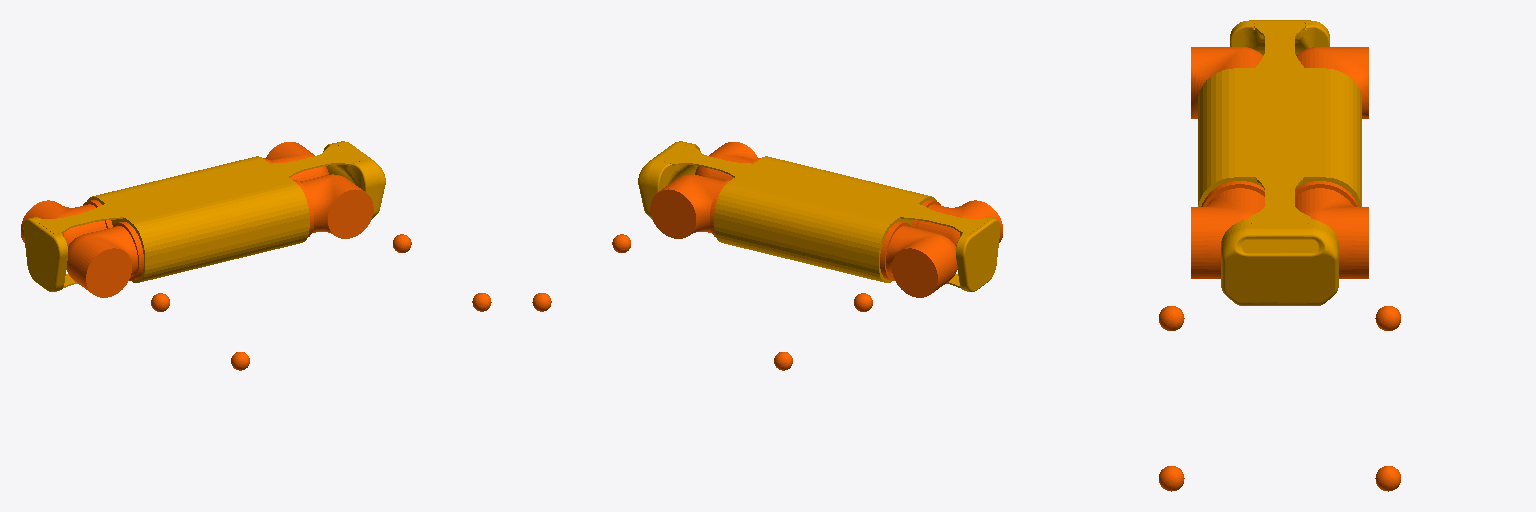
--- Render facts (derived) ---
3 views of the same robot in one strip: view 1: azimuth 30°, elevation 25°; view 2: azimuth 150°, elevation 25°; view 3: azimuth 270°, elevation 25° (orthographic).
Robot: robot — 18 links, 17 joints (12 revolute, 5 fixed); root link base; default pose: joints at zero except 4 at the middle of their limits (RF_KFE = -1.71, LF_KFE = -1.71, RH_KFE = -1.71, LH_KFE = -1.71).
Visible links, largest first — view 1: base, RH_hip, RF_hip, LH_hip, LF_hip; view 2: base, LH_hip, LF_hip, RH_hip, RF_hip; view 3: base, RF_hip, LF_hip, RH_hip, LH_hip.
Boxes of the visible links, x1,y1,x2,y2 form: base: (23, 141, 385, 291); RH_hip: (66, 222, 143, 297); RF_hip: (293, 174, 373, 238); LH_hip: (21, 200, 112, 245); LF_hip: (263, 142, 328, 181); base: (638, 141, 1000, 291); LH_hip: (880, 222, 957, 297); LF_hip: (650, 174, 730, 238); RH_hip: (911, 200, 1002, 245); RF_hip: (695, 142, 760, 181); base: (1198, 20, 1361, 305); RF_hip: (1191, 181, 1264, 278); LF_hip: (1295, 181, 1368, 278); RH_hip: (1191, 47, 1263, 118); LH_hip: (1296, 47, 1368, 118).
Size in the robot's own frame: 0.8157 by 0.3086 by 0.2877 metres.
Meshes: 5 distinct files referenced, 5 mesh visuals loaded (2 Collada DAE); not drawn: 8 (reference not matched to a file when rendering).

The robot description file, URDF, robot "robot":
<?xml version="1.0" ?>
<!-- =================================================================================== -->
<!-- |    This document was autogenerated by xacro from ./robot.xacro                  | -->
<!-- |    EDITING THIS FILE BY HAND IS NOT RECOMMENDED                                 | -->
<!-- =================================================================================== -->
<robot name="robot">
  <material name="black">
    <color rgba="0.0 0.0 0.0 1.0"/>
  </material>
  <material name="blue">
    <color rgba="0.0 0.0 0.8 1.0"/>
  </material>
  <material name="green">
    <color rgba="0.0 0.8 0.0 1.0"/>
  </material>
  <material name="grey">
    <color rgba="0.2 0.2 0.2 1.0"/>
  </material>
  <material name="silver">
    <color rgba="0.9137254901960784 0.9137254901960784 0.8470588235294118 1.0"/>
  </material>
  <material name="orange">
    <color rgba="1.0 0.4235294117647059 0.0392156862745098 1.0"/>
  </material>
  <material name="brown">
    <color rgba="0.8705882352941177 0.8117647058823529 0.7647058823529411 1.0"/>
  </material>
  <material name="red">
    <color rgba="0.8 0.0 0.0 1.0"/>
  </material>
  <material name="white">
    <color rgba="1.0 1.0 1.0 1.0"/>
  </material>
  <!-- ros_control plugin -->
  <gazebo>
    <plugin filename="liblegged_hw_sim.so" name="gazebo_ros_control">
      <robotNamespace>/</robotNamespace>
      <robotParam>legged_robot_description</robotParam>
      <robotSimType>legged_gazebo/LeggedHWSim</robotSimType>
    </plugin>
  </gazebo>
  <gazebo>
    <plugin filename="libgazebo_ros_p3d.so" name="p3d_base_controller">
      <alwaysOn>true</alwaysOn>
      <updateRate>1000.0</updateRate>
      <bodyName>base</bodyName>
      <topicName>ground_truth/state</topicName>
      <gaussianNoise>0</gaussianNoise>
      <frameName>world</frameName>
      <xyzOffsets>0 0 0</xyzOffsets>
      <rpyOffsets>0 0 0</rpyOffsets>
    </plugin>
  </gazebo>
  <gazebo reference="base_link">
    <maxVel>100.</maxVel>
    <kp>10000.</kp>
    <kd>0.</kd>
  </gazebo>
  <gazebo reference="stick_link">
    <mu1>0.2</mu1>
    <mu2>0.2</mu2>
    <material>Gazebo/White</material>
  </gazebo>
  <!-- LF leg -->
  <gazebo reference="LF_hip">
    <mu1>0.2</mu1>
    <mu2>0.2</mu2>
    <material>Gazebo/DarkGrey</material>
  </gazebo>
  <gazebo reference="LF_thigh">
    <mu1>0.2</mu1>
    <mu2>0.2</mu2>
    <self_collide>0</self_collide>
    <material>Gazebo/DarkGrey</material>
    <kp value="1000000.0"/>
    <kd value="1.0"/>
  </gazebo>
  <gazebo reference="LF_calf">
    <mu1>0.2</mu1>
    <mu2>0.2</mu2>
    <self_collide>1</self_collide>
  </gazebo>
  <gazebo reference="LF_FOOT">
    <mu1>0.6</mu1>
    <mu2>0.6</mu2>
    <self_collide>1</self_collide>
    <material>Gazebo/DarkGrey</material>
    <kp value="1000000.0"/>
    <kd value="1.0"/>
  </gazebo>
  <!-- RF leg -->
  <gazebo reference="RF_hip">
    <mu1>0.2</mu1>
    <mu2>0.2</mu2>
    <material>Gazebo/DarkGrey</material>
  </gazebo>
  <gazebo reference="RF_thigh">
    <mu1>0.2</mu1>
    <mu2>0.2</mu2>
    <self_collide>0</self_collide>
    <material>Gazebo/DarkGrey</material>
    <kp value="1000000.0"/>
    <kd value="1.0"/>
  </gazebo>
  <gazebo reference="RF_calf">
    <mu1>0.2</mu1>
    <mu2>0.2</mu2>
    <self_collide>1</self_collide>
  </gazebo>
  <gazebo reference="RF_FOOT">
    <mu1>0.6</mu1>
    <mu2>0.6</mu2>
    <self_collide>1</self_collide>
    <material>Gazebo/DarkGrey</material>
    <kp value="1000000.0"/>
    <kd value="1.0"/>
  </gazebo>
  <!-- LH leg -->
  <gazebo reference="LH_hip">
    <mu1>0.2</mu1>
    <mu2>0.2</mu2>
    <material>Gazebo/DarkGrey</material>
  </gazebo>
  <gazebo reference="LH_thigh">
    <mu1>0.2</mu1>
    <mu2>0.2</mu2>
    <self_collide>0</self_collide>
    <material>Gazebo/DarkGrey</material>
    <kp value="1000000.0"/>
    <kd value="1.0"/>
  </gazebo>
  <gazebo reference="LH_calf">
    <mu1>0.2</mu1>
    <mu2>0.2</mu2>
    <self_collide>1</self_collide>
  </gazebo>
  <gazebo reference="LH_FOOT">
    <mu1>0.6</mu1>
    <mu2>0.6</mu2>
    <self_collide>1</self_collide>
    <material>Gazebo/DarkGrey</material>
    <kp value="1000000.0"/>
    <kd value="1.0"/>
  </gazebo>
  <!-- RH leg -->
  <gazebo reference="RH_hip">
    <mu1>0.2</mu1>
    <mu2>0.2</mu2>
    <material>Gazebo/DarkGrey</material>
  </gazebo>
  <gazebo reference="RH_thigh">
    <mu1>0.2</mu1>
    <mu2>0.2</mu2>
    <self_collide>0</self_collide>
    <material>Gazebo/DarkGrey</material>
    <kp value="1000000.0"/>
    <kd value="1.0"/>
  </gazebo>
  <gazebo reference="RH_calf">
    <mu1>0.2</mu1>
    <mu2>0.2</mu2>
    <self_collide>1</self_collide>
  </gazebo>
  <gazebo reference="RH_FOOT">
    <mu1>0.6</mu1>
    <mu2>0.6</mu2>
    <self_collide>1</self_collide>
    <material>Gazebo/DarkGrey</material>
    <kp value="1000000.0"/>
    <kd value="1.0"/>
  </gazebo>
  <link name="base">
    <visual>
      <origin rpy="0 0 0" xyz="0 0 0"/>
      <geometry>
        <mesh filename="package://legged_unitree_description/meshes/aliengo/trunk.dae" scale="1 1 1"/>
      </geometry>
    </visual>
    <collision>
      <origin rpy="0 0 0" xyz="0 0 0"/>
      <geometry>
        <box size="0.647 0.15 0.112"/>
      </geometry>
    </collision>
    <inertial>
      <origin rpy="0 0 0" xyz="0.008465 0.004045 -0.000763"/>
      <mass value="11.041"/>
      <inertia ixx="0.050874" ixy="-0.000451628" ixz="0.000487603" iyy="0.64036" iyz="4.8356e-05" izz="0.65655"/>
    </inertial>
  </link>
  <!-- Imu is fixed to the base link -->
  <joint name="unitree_imu_joint" type="fixed">
    <origin rpy="0. 0. 0." xyz="0. 0. 0."/>
    <parent link="base"/>
    <child link="unitree_imu"/>
  </joint>
  <!-- Imu link -->
  <link name="unitree_imu">
    <inertial>
      <mass value="0.01"/>
      <origin rpy="0 0 0" xyz="0 0 0"/>
      <inertia ixx="0.000001" ixy="0" ixz="0" iyy="0.000001" iyz="0" izz="0.000001"/>
    </inertial>
    <visual>
      <origin rpy="0 0 0" xyz="0 0 0"/>
      <geometry>
        <box size="0.015 0.015 0.004"/>
      </geometry>
    </visual>
    <material name="orange">
      <color rgba="255 108 10 255"/>
    </material>
  </link>
  <gazebo reference="unitree_imu">
    <material>Gazebo/Orange</material>
  </gazebo>
  <gazebo reference="unitree_imu_joint">
    <disableFixedJointLumping>true</disableFixedJointLumping>
  </gazebo>
  <joint name="RF_HAA" type="revolute">
    <origin rpy="0 0 0" xyz="0.2407 -0.051 0"/>
    <parent link="base"/>
    <child link="RF_hip"/>
    <axis xyz="1 0 0"/>
    <dynamics damping="0.05" friction="0.01"/>
    <limit effort="35.278" lower="-1.2217304763960306" upper="1.2217304763960306" velocity="20"/>
  </joint>
  <link name="RF_hip">
    <visual>
      <origin rpy="3.141592653589793 0 0" xyz="0 0 0"/>
      <geometry>
        <mesh filename="package://legged_unitree_description/meshes/aliengo/hip.dae" scale="1 1 1"/>
      </geometry>
      <material name="orange"/>
    </visual>
    <collision>
      <origin rpy="1.5707963267948966 0 0" xyz="0 0 0"/>
      <geometry>
        <cylinder length="0.0418" radius="0.046"/>
      </geometry>
    </collision>
    <inertial>
      <origin rpy="0 0 0" xyz="-0.022191 -0.015144 -1.5e-05"/>
      <mass value="1.993"/>
      <inertia ixx="0.002903894" ixy="7.185e-05" ixz="-1.262e-06" iyy="0.004907517" iyz="1.75e-06" izz="0.005586944"/>
    </inertial>
  </link>
  <joint name="RF_HFE" type="revolute">
    <origin rpy="0 0 0" xyz="0 -0.0868 0"/>
    <parent link="RF_hip"/>
    <child link="RF_thigh"/>
    <axis xyz="0 1 0"/>
    <dynamics damping="0.05" friction="0.01"/>
    <limit effort="35.278" lower="-1e+22" upper="1e+22" velocity="20"/>
  </joint>
  <link name="RF_thigh">
    <visual>
      <origin rpy="0 0 0" xyz="0 0 0"/>
      <geometry>
        <mesh filename="package://legged_unitree_description/meshes/aliengo/thigh_mirror.dae" scale="1 1 1"/>
      </geometry>
      <material name="orange"/>
    </visual>
    <collision>
      <origin rpy="0 1.6707963267948966 0" xyz="0.0 0 -0.125"/>
      <geometry>
        <box size="0.25 0.0374 0.043"/>
      </geometry>
    </collision>
    <collision>
      <origin rpy="1.5707963267948966 0 0" xyz="0 -0.0 0"/>
      <geometry>
        <cylinder length="0.03" radius="0.044"/>
      </geometry>
    </collision>
    <inertial>
      <origin rpy="0 0 0" xyz="-0.005607 0.003877 -0.048199"/>
      <mass value="0.639"/>
      <inertia ixx="0.005666803" ixy="-3.597e-06" ixz="0.000491446" iyy="0.005847229" iyz="-1.0086e-05" izz="0.000369811"/>
    </inertial>
  </link>
  <joint name="RF_KFE" type="revolute">
    <origin rpy="0 0 0" xyz="0 0 -0.25"/>
    <parent link="RF_thigh"/>
    <child link="RF_calf"/>
    <axis xyz="0 1 0"/>
    <dynamics damping="0.05" friction="0.01"/>
    <limit effort="44.4" lower="-2.775073510670984" upper="-0.6457718232379019" velocity="15.89"/>
  </joint>
  <link name="RF_calf">
    <visual>
      <origin rpy="0 0 0" xyz="0 0 0"/>
      <geometry>
        <mesh filename="package://legged_unitree_description/meshes/aliengo/calf.dae" scale="1 1 1"/>
      </geometry>
      <material name="orange"/>
    </visual>
    <collision>
      <origin rpy="0 1.5707963267948966 0" xyz="0 0 -0.125"/>
      <geometry>
        <box size="0.25 0.0208 0.016"/>
      </geometry>
    </collision>
    <inertial>
      <origin rpy="0 0 0" xyz="0.002781 6.3e-05 -0.142518"/>
      <mass value="0.207"/>
      <inertia ixx="0.006341369" ixy="-3e-09" ixz="-8.7951e-05" iyy="0.006355157" iyz="-1.336e-06" izz="3.9188e-05"/>
    </inertial>
  </link>
  <joint name="RF_foot_fixed" type="fixed">
    <origin rpy="0 0 0" xyz="0 0 -0.25"/>
    <parent link="RF_calf"/>
    <child link="RF_FOOT"/>
  </joint>
  <link name="RF_FOOT">
    <visual>
      <origin rpy="0 0 0" xyz="0 0 0"/>
      <geometry>
        <sphere radius="0.0165"/>
      </geometry>
      <material name="orange"/>
    </visual>
    <collision>
      <origin rpy="0 0 0" xyz="0 0 0"/>
      <geometry>
        <sphere radius="0.0265"/>
      </geometry>
    </collision>
    <inertial>
      <mass value="0.06"/>
      <inertia ixx="1.6853999999999998e-05" ixy="0.0" ixz="0.0" iyy="1.6853999999999998e-05" iyz="0.0" izz="1.6853999999999998e-05"/>
    </inertial>
  </link>
  <gazebo reference="RF_foot_fixed">
    <disableFixedJointLumping>true</disableFixedJointLumping>
  </gazebo>
  <transmission name="RF_HAA_tran">
    <type>transmission_interface/SimpleTransmission</type>
    <joint name="RF_HAA">
      <hardwareInterface>hardware_interface/EffortJointInterface</hardwareInterface>
    </joint>
    <actuator name="RF_HAA_motor">
      <hardwareInterface>hardware_interface/EffortJointInterface</hardwareInterface>
      <mechanicalReduction>1</mechanicalReduction>
    </actuator>
  </transmission>
  <transmission name="RF_HFE_tran">
    <type>transmission_interface/SimpleTransmission</type>
    <joint name="RF_HFE">
      <hardwareInterface>hardware_interface/EffortJointInterface</hardwareInterface>
    </joint>
    <actuator name="RF_HFE_motor">
      <hardwareInterface>hardware_interface/EffortJointInterface</hardwareInterface>
      <mechanicalReduction>1</mechanicalReduction>
    </actuator>
  </transmission>
  <transmission name="RF_KFE_tran">
    <type>transmission_interface/SimpleTransmission</type>
    <joint name="RF_KFE">
      <hardwareInterface>hardware_interface/EffortJointInterface</hardwareInterface>
    </joint>
    <actuator name="RF_KFE_motor">
      <hardwareInterface>hardware_interface/EffortJointInterface</hardwareInterface>
      <mechanicalReduction>1</mechanicalReduction>
    </actuator>
  </transmission>
  <joint name="LF_HAA" type="revolute">
    <origin rpy="0 0 0" xyz="0.2407 0.051 0"/>
    <parent link="base"/>
    <child link="LF_hip"/>
    <axis xyz="1 0 0"/>
    <dynamics damping="0.05" friction="0.01"/>
    <limit effort="35.278" lower="-1.2217304763960306" upper="1.2217304763960306" velocity="20"/>
  </joint>
  <link name="LF_hip">
    <visual>
      <origin rpy="0 0 0" xyz="0 0 0"/>
      <geometry>
        <mesh filename="package://legged_unitree_description/meshes/aliengo/hip.dae" scale="1 1 1"/>
      </geometry>
      <material name="orange"/>
    </visual>
    <collision>
      <origin rpy="1.5707963267948966 0 0" xyz="0 0 0"/>
      <geometry>
        <cylinder length="0.0418" radius="0.046"/>
      </geometry>
    </collision>
    <inertial>
      <origin rpy="0 0 0" xyz="-0.022191 0.015144 -1.5e-05"/>
      <mass value="1.993"/>
      <inertia ixx="0.002903894" ixy="-7.185e-05" ixz="-1.262e-06" iyy="0.004907517" iyz="-1.75e-06" izz="0.005586944"/>
    </inertial>
  </link>
  <joint name="LF_HFE" type="revolute">
    <origin rpy="0 0 0" xyz="0 0.0868 0"/>
    <parent link="LF_hip"/>
    <child link="LF_thigh"/>
    <axis xyz="0 1 0"/>
    <dynamics damping="0.05" friction="0.01"/>
    <limit effort="35.278" lower="-1e+22" upper="1e+22" velocity="20"/>
  </joint>
  <link name="LF_thigh">
    <visual>
      <origin rpy="0 0 0" xyz="0 0 0"/>
      <geometry>
        <mesh filename="package://legged_unitree_description/meshes/aliengo/thigh.dae" scale="1 1 1"/>
      </geometry>
      <material name="orange"/>
    </visual>
    <collision>
      <origin rpy="0 1.6707963267948966 0" xyz="0.0 0 -0.125"/>
      <geometry>
        <box size="0.25 0.0374 0.043"/>
      </geometry>
    </collision>
    <collision>
      <origin rpy="1.5707963267948966 0 0" xyz="0 0.0 0"/>
      <geometry>
        <cylinder length="0.03" radius="0.044"/>
      </geometry>
    </collision>
    <inertial>
      <origin rpy="0 0 0" xyz="-0.005607 -0.003877 -0.048199"/>
      <mass value="0.639"/>
      <inertia ixx="0.005666803" ixy="3.597e-06" ixz="0.000491446" iyy="0.005847229" iyz="1.0086e-05" izz="0.000369811"/>
    </inertial>
  </link>
  <joint name="LF_KFE" type="revolute">
    <origin rpy="0 0 0" xyz="0 0 -0.25"/>
    <parent link="LF_thigh"/>
    <child link="LF_calf"/>
    <axis xyz="0 1 0"/>
    <dynamics damping="0.05" friction="0.01"/>
    <limit effort="44.4" lower="-2.775073510670984" upper="-0.6457718232379019" velocity="15.89"/>
  </joint>
  <link name="LF_calf">
    <visual>
      <origin rpy="0 0 0" xyz="0 0 0"/>
      <geometry>
        <mesh filename="package://legged_unitree_description/meshes/aliengo/calf.dae" scale="1 1 1"/>
      </geometry>
      <material name="orange"/>
    </visual>
    <collision>
      <origin rpy="0 1.5707963267948966 0" xyz="0 0 -0.125"/>
      <geometry>
        <box size="0.25 0.0208 0.016"/>
      </geometry>
    </collision>
    <inertial>
      <origin rpy="0 0 0" xyz="0.002781 6.3e-05 -0.142518"/>
      <mass value="0.207"/>
      <inertia ixx="0.006341369" ixy="-3e-09" ixz="-8.7951e-05" iyy="0.006355157" iyz="-1.336e-06" izz="3.9188e-05"/>
    </inertial>
  </link>
  <joint name="LF_foot_fixed" type="fixed">
    <origin rpy="0 0 0" xyz="0 0 -0.25"/>
    <parent link="LF_calf"/>
    <child link="LF_FOOT"/>
  </joint>
  <link name="LF_FOOT">
    <visual>
      <origin rpy="0 0 0" xyz="0 0 0"/>
      <geometry>
        <sphere radius="0.0165"/>
      </geometry>
      <material name="orange"/>
    </visual>
    <collision>
      <origin rpy="0 0 0" xyz="0 0 0"/>
      <geometry>
        <sphere radius="0.0265"/>
      </geometry>
    </collision>
    <inertial>
      <mass value="0.06"/>
      <inertia ixx="1.6853999999999998e-05" ixy="0.0" ixz="0.0" iyy="1.6853999999999998e-05" iyz="0.0" izz="1.6853999999999998e-05"/>
    </inertial>
  </link>
  <gazebo reference="LF_foot_fixed">
    <disableFixedJointLumping>true</disableFixedJointLumping>
  </gazebo>
  <transmission name="LF_HAA_tran">
    <type>transmission_interface/SimpleTransmission</type>
    <joint name="LF_HAA">
      <hardwareInterface>hardware_interface/EffortJointInterface</hardwareInterface>
    </joint>
    <actuator name="LF_HAA_motor">
      <hardwareInterface>hardware_interface/EffortJointInterface</hardwareInterface>
      <mechanicalReduction>1</mechanicalReduction>
    </actuator>
  </transmission>
  <transmission name="LF_HFE_tran">
    <type>transmission_interface/SimpleTransmission</type>
    <joint name="LF_HFE">
      <hardwareInterface>hardware_interface/EffortJointInterface</hardwareInterface>
    </joint>
    <actuator name="LF_HFE_motor">
      <hardwareInterface>hardware_interface/EffortJointInterface</hardwareInterface>
      <mechanicalReduction>1</mechanicalReduction>
    </actuator>
  </transmission>
  <transmission name="LF_KFE_tran">
    <type>transmission_interface/SimpleTransmission</type>
    <joint name="LF_KFE">
      <hardwareInterface>hardware_interface/EffortJointInterface</hardwareInterface>
    </joint>
    <actuator name="LF_KFE_motor">
      <hardwareInterface>hardware_interface/EffortJointInterface</hardwareInterface>
      <mechanicalReduction>1</mechanicalReduction>
    </actuator>
  </transmission>
  <joint name="RH_HAA" type="revolute">
    <origin rpy="0 0 0" xyz="-0.2407 -0.051 0"/>
    <parent link="base"/>
    <child link="RH_hip"/>
    <axis xyz="1 0 0"/>
    <dynamics damping="0.05" friction="0.01"/>
    <limit effort="35.278" lower="-1.2217304763960306" upper="1.2217304763960306" velocity="20"/>
  </joint>
  <link name="RH_hip">
    <visual>
      <origin rpy="3.141592653589793 3.141592653589793 0" xyz="0 0 0"/>
      <geometry>
        <mesh filename="package://legged_unitree_description/meshes/aliengo/hip.dae" scale="1 1 1"/>
      </geometry>
      <material name="orange"/>
    </visual>
    <collision>
      <origin rpy="1.5707963267948966 0 0" xyz="0 0 0"/>
      <geometry>
        <cylinder length="0.0418" radius="0.046"/>
      </geometry>
    </collision>
    <inertial>
      <origin rpy="0 0 0" xyz="0.022191 -0.015144 -1.5e-05"/>
      <mass value="1.993"/>
      <inertia ixx="0.002903894" ixy="-7.185e-05" ixz="1.262e-06" iyy="0.004907517" iyz="1.75e-06" izz="0.005586944"/>
    </inertial>
  </link>
  <joint name="RH_HFE" type="revolute">
    <origin rpy="0 0 0" xyz="0 -0.0868 0"/>
    <parent link="RH_hip"/>
    <child link="RH_thigh"/>
    <axis xyz="0 1 0"/>
    <dynamics damping="0.05" friction="0.01"/>
    <limit effort="35.278" lower="-1e+22" upper="1e+22" velocity="20"/>
  </joint>
  <link name="RH_thigh">
    <visual>
      <origin rpy="0 0 0" xyz="0 0 0"/>
      <geometry>
        <mesh filename="package://legged_unitree_description/meshes/aliengo/thigh_mirror.dae" scale="1 1 1"/>
      </geometry>
      <material name="orange"/>
    </visual>
    <collision>
      <origin rpy="0 1.6707963267948966 0" xyz="0.0 0 -0.125"/>
      <geometry>
        <box size="0.25 0.0374 0.043"/>
      </geometry>
    </collision>
    <collision>
      <origin rpy="1.5707963267948966 0 0" xyz="0 -0.0 0"/>
      <geometry>
        <cylinder length="0.03" radius="0.044"/>
      </geometry>
    </collision>
    <inertial>
      <origin rpy="0 0 0" xyz="-0.005607 0.003877 -0.048199"/>
      <mass value="0.639"/>
      <inertia ixx="0.005666803" ixy="-3.597e-06" ixz="0.000491446" iyy="0.005847229" iyz="-1.0086e-05" izz="0.000369811"/>
    </inertial>
  </link>
  <joint name="RH_KFE" type="revolute">
    <origin rpy="0 0 0" xyz="0 0 -0.25"/>
    <parent link="RH_thigh"/>
    <child link="RH_calf"/>
    <axis xyz="0 1 0"/>
    <dynamics damping="0.05" friction="0.01"/>
    <limit effort="44.4" lower="-2.775073510670984" upper="-0.6457718232379019" velocity="15.89"/>
  </joint>
  <link name="RH_calf">
    <visual>
      <origin rpy="0 0 0" xyz="0 0 0"/>
      <geometry>
        <mesh filename="package://legged_unitree_description/meshes/aliengo/calf.dae" scale="1 1 1"/>
      </geometry>
      <material name="orange"/>
    </visual>
    <collision>
      <origin rpy="0 1.5707963267948966 0" xyz="0 0 -0.125"/>
      <geometry>
        <box size="0.25 0.0208 0.016"/>
      </geometry>
    </collision>
    <inertial>
      <origin rpy="0 0 0" xyz="0.002781 6.3e-05 -0.142518"/>
      <mass value="0.207"/>
      <inertia ixx="0.006341369" ixy="-3e-09" ixz="-8.7951e-05" iyy="0.006355157" iyz="-1.336e-06" izz="3.9188e-05"/>
    </inertial>
  </link>
  <joint name="RH_foot_fixed" type="fixed">
    <origin rpy="0 0 0" xyz="0 0 -0.25"/>
    <parent link="RH_calf"/>
    <child link="RH_FOOT"/>
  </joint>
  <link name="RH_FOOT">
    <visual>
      <origin rpy="0 0 0" xyz="0 0 0"/>
      <geometry>
        <sphere radius="0.0165"/>
      </geometry>
      <material name="orange"/>
    </visual>
    <collision>
      <origin rpy="0 0 0" xyz="0 0 0"/>
      <geometry>
        <sphere radius="0.0265"/>
      </geometry>
    </collision>
    <inertial>
      <mass value="0.06"/>
      <inertia ixx="1.6853999999999998e-05" ixy="0.0" ixz="0.0" iyy="1.6853999999999998e-05" iyz="0.0" izz="1.6853999999999998e-05"/>
    </inertial>
  </link>
  <gazebo reference="RH_foot_fixed">
    <disableFixedJointLumping>true</disableFixedJointLumping>
  </gazebo>
  <transmission name="RH_HAA_tran">
    <type>transmission_interface/SimpleTransmission</type>
    <joint name="RH_HAA">
      <hardwareInterface>hardware_interface/EffortJointInterface</hardwareInterface>
    </joint>
    <actuator name="RH_HAA_motor">
      <hardwareInterface>hardware_interface/EffortJointInterface</hardwareInterface>
      <mechanicalReduction>1</mechanicalReduction>
    </actuator>
  </transmission>
  <transmission name="RH_HFE_tran">
    <type>transmission_interface/SimpleTransmission</type>
    <joint name="RH_HFE">
      <hardwareInterface>hardware_interface/EffortJointInterface</hardwareInterface>
    </joint>
    <actuator name="RH_HFE_motor">
      <hardwareInterface>hardware_interface/EffortJointInterface</hardwareInterface>
      <mechanicalReduction>1</mechanicalReduction>
    </actuator>
  </transmission>
  <transmission name="RH_KFE_tran">
    <type>transmission_interface/SimpleTransmission</type>
    <joint name="RH_KFE">
      <hardwareInterface>hardware_interface/EffortJointInterface</hardwareInterface>
    </joint>
    <actuator name="RH_KFE_motor">
      <hardwareInterface>hardware_interface/EffortJointInterface</hardwareInterface>
      <mechanicalReduction>1</mechanicalReduction>
    </actuator>
  </transmission>
  <joint name="LH_HAA" type="revolute">
    <origin rpy="0 0 0" xyz="-0.2407 0.051 0"/>
    <parent link="base"/>
    <child link="LH_hip"/>
    <axis xyz="1 0 0"/>
    <dynamics damping="0.05" friction="0.01"/>
    <limit effort="35.278" lower="-1.2217304763960306" upper="1.2217304763960306" velocity="20"/>
  </joint>
  <link name="LH_hip">
    <visual>
      <origin rpy="0 3.141592653589793 0" xyz="0 0 0"/>
      <geometry>
        <mesh filename="package://legged_unitree_description/meshes/aliengo/hip.dae" scale="1 1 1"/>
      </geometry>
      <material name="orange"/>
    </visual>
    <collision>
      <origin rpy="1.5707963267948966 0 0" xyz="0 0 0"/>
      <geometry>
        <cylinder length="0.0418" radius="0.046"/>
      </geometry>
    </collision>
    <inertial>
      <origin rpy="0 0 0" xyz="0.022191 0.015144 -1.5e-05"/>
      <mass value="1.993"/>
      <inertia ixx="0.002903894" ixy="7.185e-05" ixz="1.262e-06" iyy="0.004907517" iyz="-1.75e-06" izz="0.005586944"/>
    </inertial>
  </link>
  <joint name="LH_HFE" type="revolute">
    <origin rpy="0 0 0" xyz="0 0.0868 0"/>
    <parent link="LH_hip"/>
    <child link="LH_thigh"/>
    <axis xyz="0 1 0"/>
    <dynamics damping="0.05" friction="0.01"/>
    <limit effort="35.278" lower="-1e+22" upper="1e+22" velocity="20"/>
  </joint>
  <link name="LH_thigh">
    <visual>
      <origin rpy="0 0 0" xyz="0 0 0"/>
      <geometry>
        <mesh filename="package://legged_unitree_description/meshes/aliengo/thigh.dae" scale="1 1 1"/>
      </geometry>
      <material name="orange"/>
    </visual>
    <collision>
      <origin rpy="0 1.6707963267948966 0" xyz="0.0 0 -0.125"/>
      <geometry>
        <box size="0.25 0.0374 0.043"/>
      </geometry>
    </collision>
    <collision>
      <origin rpy="1.5707963267948966 0 0" xyz="0 0.0 0"/>
      <geometry>
        <cylinder length="0.03" radius="0.044"/>
      </geometry>
    </collision>
    <inertial>
      <origin rpy="0 0 0" xyz="-0.005607 -0.003877 -0.048199"/>
      <mass value="0.639"/>
      <inertia ixx="0.005666803" ixy="3.597e-06" ixz="0.000491446" iyy="0.005847229" iyz="1.0086e-05" izz="0.000369811"/>
    </inertial>
  </link>
  <joint name="LH_KFE" type="revolute">
    <origin rpy="0 0 0" xyz="0 0 -0.25"/>
    <parent link="LH_thigh"/>
    <child link="LH_calf"/>
    <axis xyz="0 1 0"/>
    <dynamics damping="0.05" friction="0.01"/>
    <limit effort="44.4" lower="-2.775073510670984" upper="-0.6457718232379019" velocity="15.89"/>
  </joint>
  <link name="LH_calf">
    <visual>
      <origin rpy="0 0 0" xyz="0 0 0"/>
      <geometry>
        <mesh filename="package://legged_unitree_description/meshes/aliengo/calf.dae" scale="1 1 1"/>
      </geometry>
      <material name="orange"/>
    </visual>
    <collision>
      <origin rpy="0 1.5707963267948966 0" xyz="0 0 -0.125"/>
      <geometry>
        <box size="0.25 0.0208 0.016"/>
      </geometry>
    </collision>
    <inertial>
      <origin rpy="0 0 0" xyz="0.002781 6.3e-05 -0.142518"/>
      <mass value="0.207"/>
      <inertia ixx="0.006341369" ixy="-3e-09" ixz="-8.7951e-05" iyy="0.006355157" iyz="-1.336e-06" izz="3.9188e-05"/>
    </inertial>
  </link>
  <joint name="LH_foot_fixed" type="fixed">
    <origin rpy="0 0 0" xyz="0 0 -0.25"/>
    <parent link="LH_calf"/>
    <child link="LH_FOOT"/>
  </joint>
  <link name="LH_FOOT">
    <visual>
      <origin rpy="0 0 0" xyz="0 0 0"/>
      <geometry>
        <sphere radius="0.0165"/>
      </geometry>
      <material name="orange"/>
    </visual>
    <collision>
      <origin rpy="0 0 0" xyz="0 0 0"/>
      <geometry>
        <sphere radius="0.0265"/>
      </geometry>
    </collision>
    <inertial>
      <mass value="0.06"/>
      <inertia ixx="1.6853999999999998e-05" ixy="0.0" ixz="0.0" iyy="1.6853999999999998e-05" iyz="0.0" izz="1.6853999999999998e-05"/>
    </inertial>
  </link>
  <gazebo reference="LH_foot_fixed">
    <disableFixedJointLumping>true</disableFixedJointLumping>
  </gazebo>
  <transmission name="LH_HAA_tran">
    <type>transmission_interface/SimpleTransmission</type>
    <joint name="LH_HAA">
      <hardwareInterface>hardware_interface/EffortJointInterface</hardwareInterface>
    </joint>
    <actuator name="LH_HAA_motor">
      <hardwareInterface>hardware_interface/EffortJointInterface</hardwareInterface>
      <mechanicalReduction>1</mechanicalReduction>
    </actuator>
  </transmission>
  <transmission name="LH_HFE_tran">
    <type>transmission_interface/SimpleTransmission</type>
    <joint name="LH_HFE">
      <hardwareInterface>hardware_interface/EffortJointInterface</hardwareInterface>
    </joint>
    <actuator name="LH_HFE_motor">
      <hardwareInterface>hardware_interface/EffortJointInterface</hardwareInterface>
      <mechanicalReduction>1</mechanicalReduction>
    </actuator>
  </transmission>
  <transmission name="LH_KFE_tran">
    <type>transmission_interface/SimpleTransmission</type>
    <joint name="LH_KFE">
      <hardwareInterface>hardware_interface/EffortJointInterface</hardwareInterface>
    </joint>
    <actuator name="LH_KFE_motor">
      <hardwareInterface>hardware_interface/EffortJointInterface</hardwareInterface>
      <mechanicalReduction>1</mechanicalReduction>
    </actuator>
  </transmission>
</robot>
